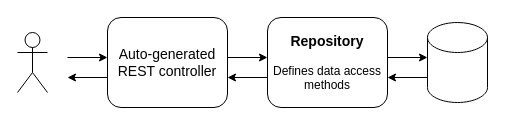
Some shapes in this 505 by 131 pixel diagram are drawn without their labels. The centre of each missing label's shape, as x and y in pixels:
Client: the point at 32,62
DB: the point at 457,62
